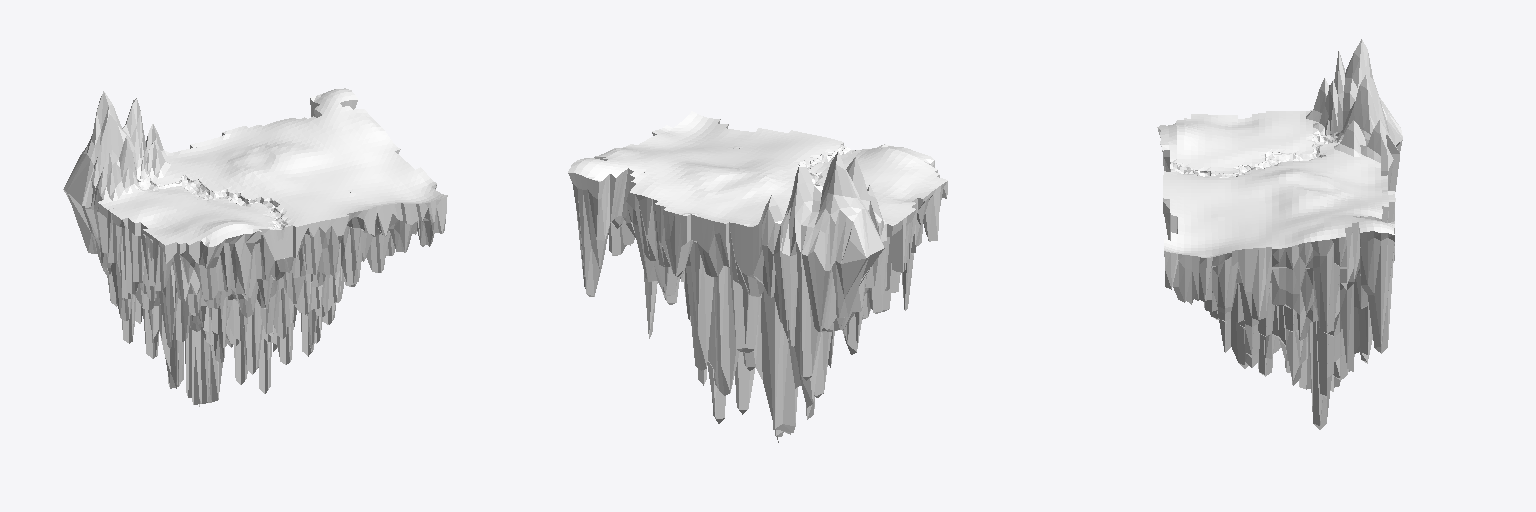
Rendered from ile_hiver-texture01.obj.
The picture shows the model from 3 angles: view 1: azimuth 30°, elevation 25°; view 2: azimuth 150°, elevation 25°; view 3: azimuth 270°, elevation 25°; orthographic projection.
Visible parts, largest first — view 1: ile_hiver; view 2: ile_hiver; view 3: ile_hiver.
Boxes of the visible parts, <box> form: ile_hiver: <box>63,88,447,406</box>; ile_hiver: <box>568,111,947,442</box>; ile_hiver: <box>1157,39,1402,429</box>.
Size of the model in its own units: 1945 by 2079 by 1422.